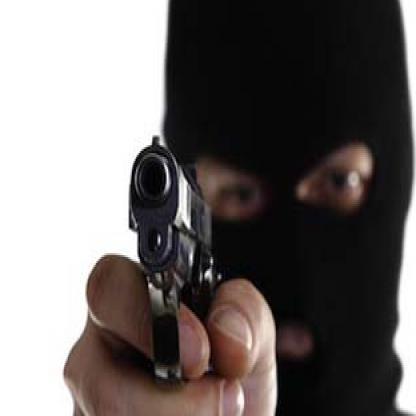gun: (126, 138, 226, 384)
